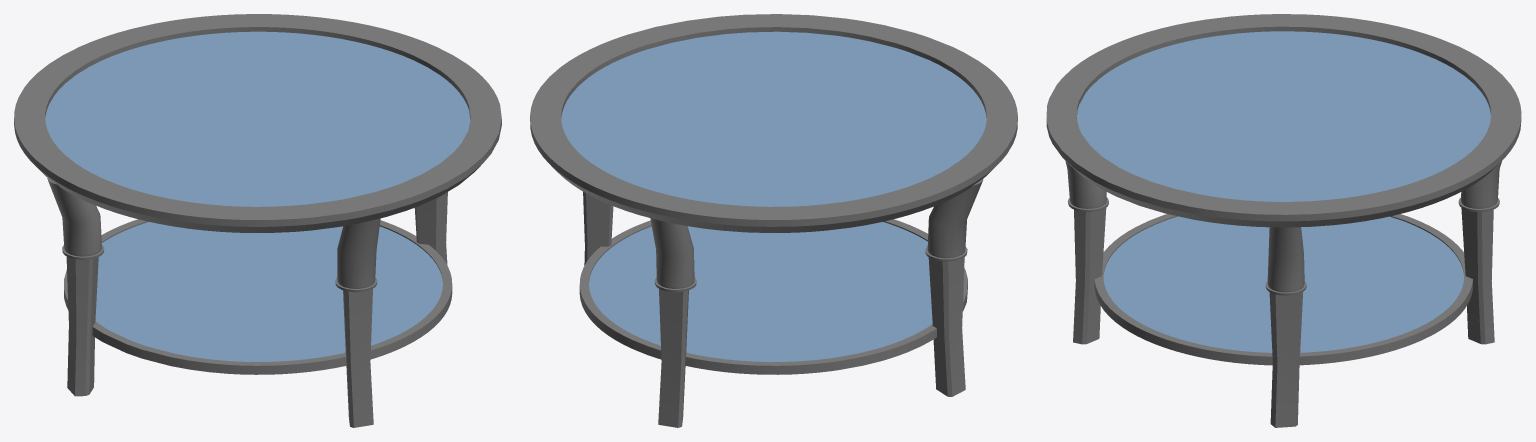
Rendered from SM_TableRound.FBX.
The picture shows the model from 3 angles, left to right: view 1: azimuth 30°, elevation 25°; view 2: azimuth 150°, elevation 25°; view 3: azimuth 270°, elevation 25°; orthographic projection. The views are drawn at different scales.
Visible parts, largest first — view 1: SM_TableRound_LOD0; view 2: SM_TableRound_LOD0; view 3: SM_TableRound_LOD0.
Boxes of the visible parts, x1,y1,x2,y2 form: SM_TableRound_LOD0: (14,14,501,427); SM_TableRound_LOD0: (530,14,1017,427); SM_TableRound_LOD0: (1046,14,1521,427).
Size of what is drawn, in the model's own units: 102 by 53.18 by 102.
